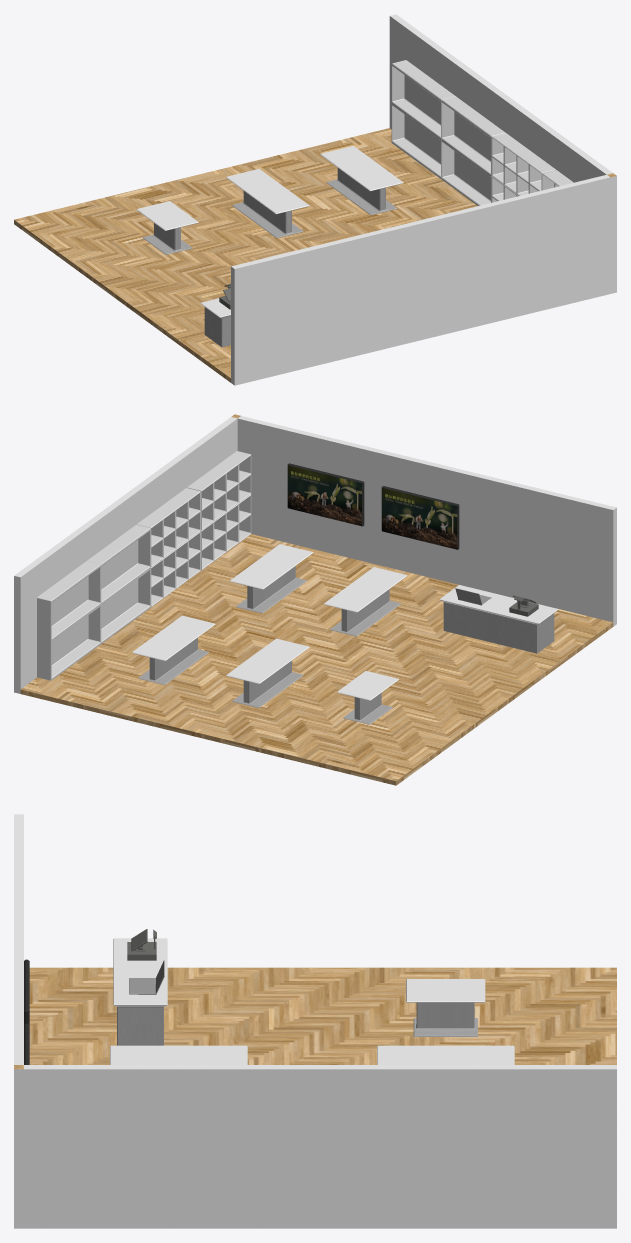
Rendered from stage_shop.fbx.
3 views of the same model, one above another, from view 1: azimuth 30°, elevation 25°; view 2: azimuth 150°, elevation 25°; view 3: azimuth 270°, elevation 25° (orthographic). The views are drawn at different scales.
Visible parts, largest first — view 1: Room, Table, Table.002, Table.004, Table.001, Table.checkout; view 2: Room, Table, Table.checkout, tv-1.001, tv-1, Table.005, Table.004, Table.003, Table.002, Table.001; view 3: Room, Table.checkout, Table.001, Table.002, Table.003, Cashier, LapTop.
Part boxes in pixels (x1=…): Room: x1=14, y1=14, x2=616, y2=385; Table: x1=391, y1=60, x2=573, y2=205; Table.002: x1=226, y1=169, x2=309, y2=238; Table.004: x1=320, y1=146, x2=403, y2=215; Table.001: x1=136, y1=201, x2=198, y2=254; Table.checkout: x1=200, y1=298, x2=230, y2=347; Room: x1=14, y1=414, x2=616, y2=785; Table: x1=37, y1=451, x2=251, y2=680; Table.checkout: x1=439, y1=585, x2=558, y2=653; tv-1.001: x1=381, y1=486, x2=459, y2=549; tv-1: x1=287, y1=463, x2=364, y2=526; Table.005: x1=230, y1=544, x2=313, y2=613; Table.004: x1=132, y1=615, x2=215, y2=684; Table.003: x1=324, y1=567, x2=407, y2=636; Table.002: x1=226, y1=638, x2=309, y2=707; Table.001: x1=337, y1=671, x2=398, y2=724; Room: x1=14, y1=814, x2=616, y2=1228; Table.checkout: x1=113, y1=938, x2=167, y2=1045; Table.001: x1=406, y1=979, x2=485, y2=1036; Table.002: x1=377, y1=1045, x2=514, y2=1064; Table.003: x1=110, y1=1045, x2=247, y2=1064; Cashier: x1=127, y1=929, x2=156, y2=960; LapTop: x1=129, y1=960, x2=164, y2=994.
Size of the model in its own units: 1196 by 349 by 1196.
Materials: 9 (5 with a texture image).
